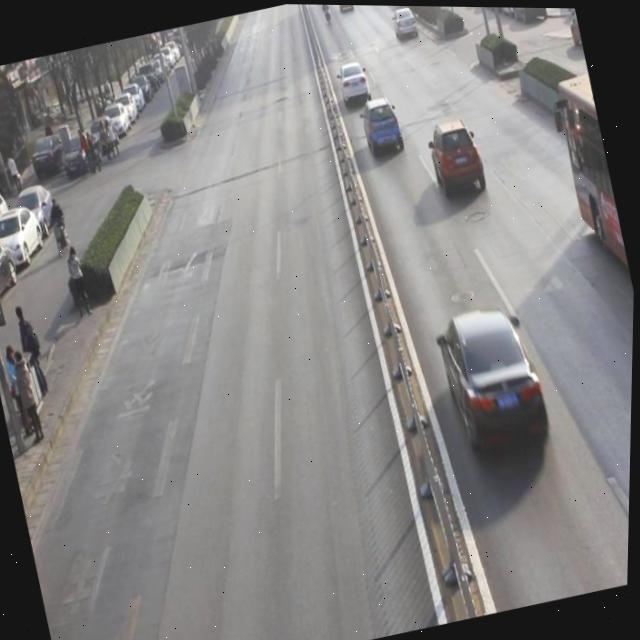car: (430, 292, 559, 463), (425, 114, 493, 206), (357, 94, 407, 160), (334, 56, 376, 110), (390, 5, 423, 45), (335, 4, 356, 16)
van: (545, 69, 639, 350)
